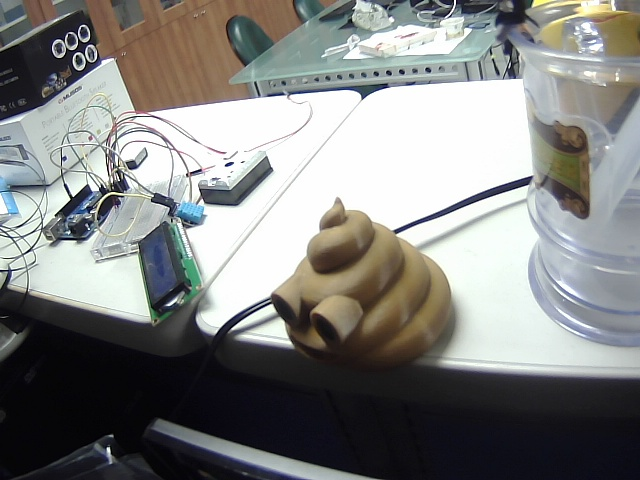shit: (272, 192, 457, 376)
